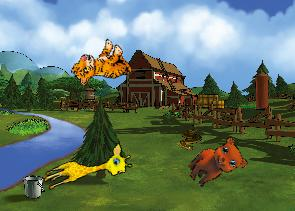bear: (182, 130, 252, 199)
giraffe: (40, 140, 135, 201)
tiger: (67, 32, 137, 101)
